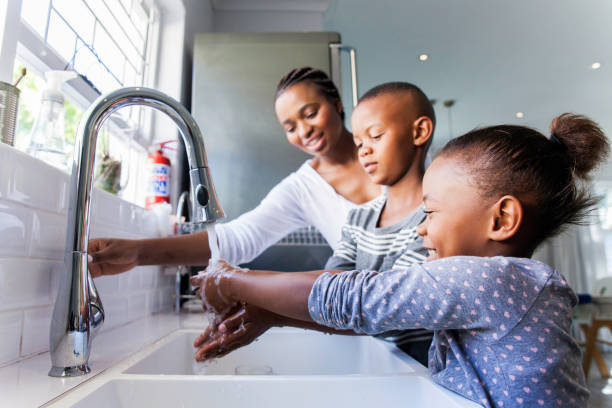without mask: (350, 80, 429, 188), (416, 149, 495, 257), (273, 77, 339, 158)
